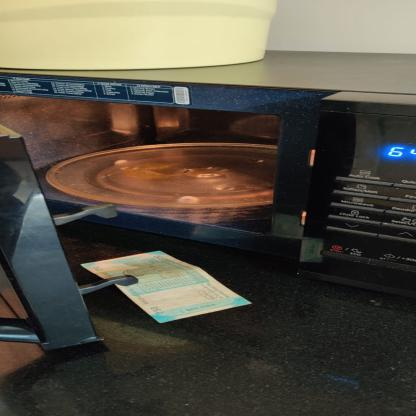New50Back: (80, 250, 254, 324)
